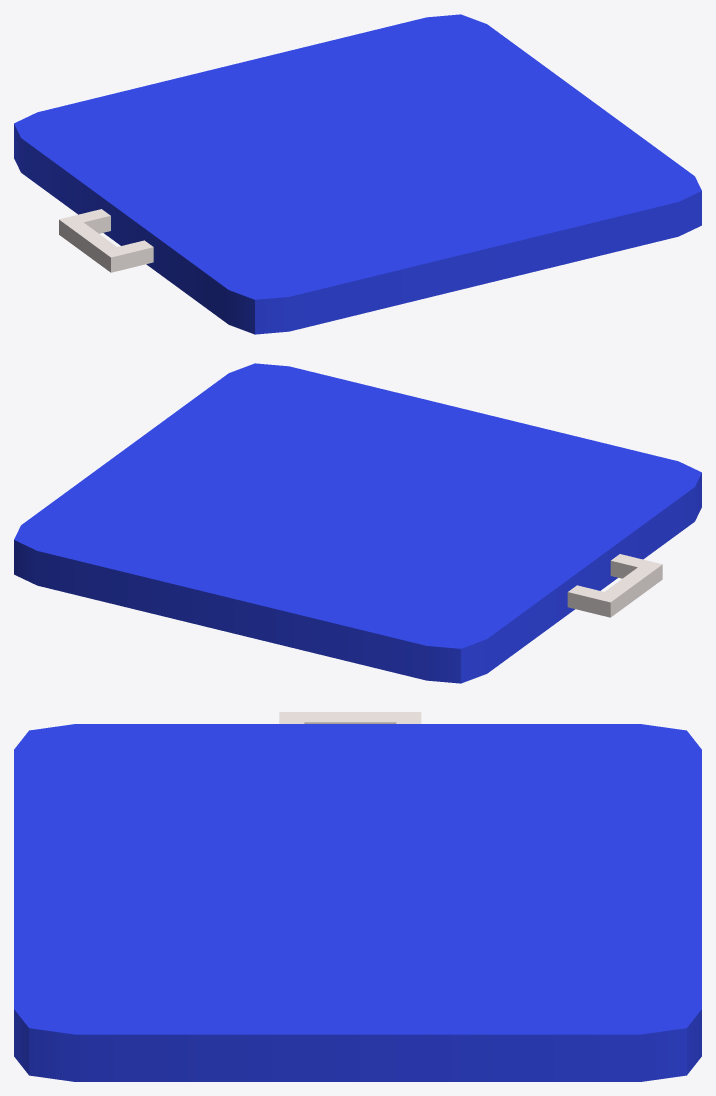
The model's file is thot.FBX.
The picture shows the model from 3 angles, top to bottom: view 1: azimuth 30°, elevation 25°; view 2: azimuth 150°, elevation 25°; view 3: azimuth 270°, elevation 25°; orthographic projection. The views are drawn at different scales.
Parts seen in each view (by area): view 1: Thot002; view 2: Thot002; view 3: Thot002.
Part boxes in pixels (box(x1,y1,x2,y2)): Thot002: box(14, 14, 701, 334); Thot002: box(14, 363, 701, 683); Thot002: box(14, 712, 701, 1081).
Bounding box in the file's own units: 1.95 × 0.1269 × 1.67.
